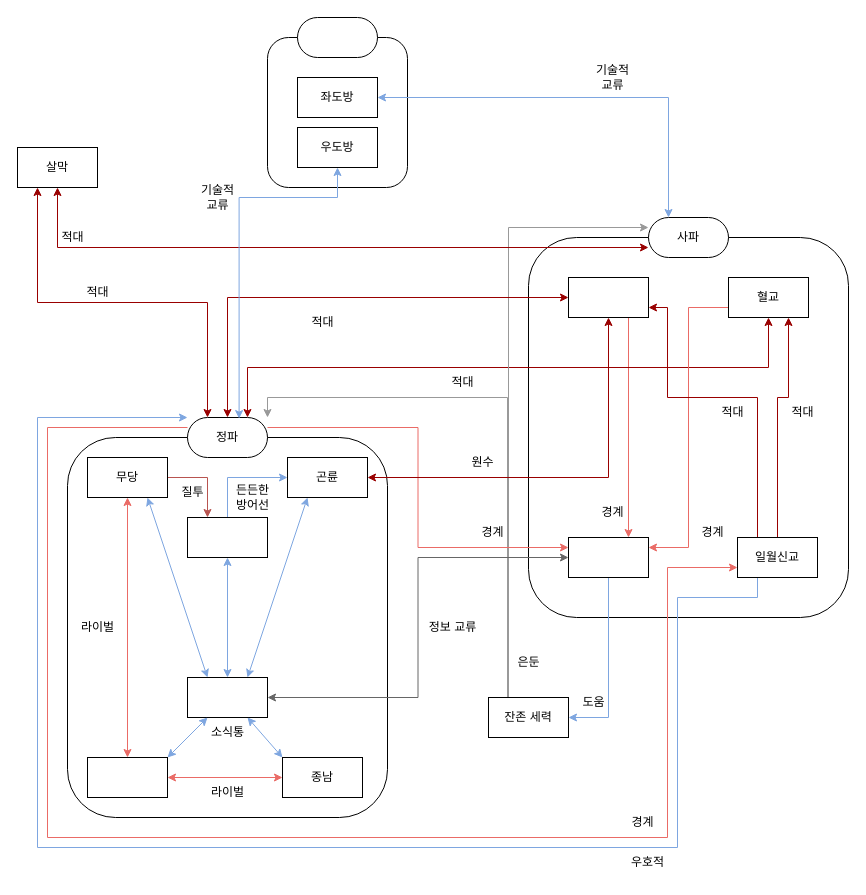
The diagram is 866 pixels wide and 895 high, and some of its shapes have lost their labels. Each missing label, with the centre of its shape:
개방: [227,697]
도방: [337,37]
마교: [608,297]
소림: [227,537]
하오문: [608,557]
화산: [127,777]
